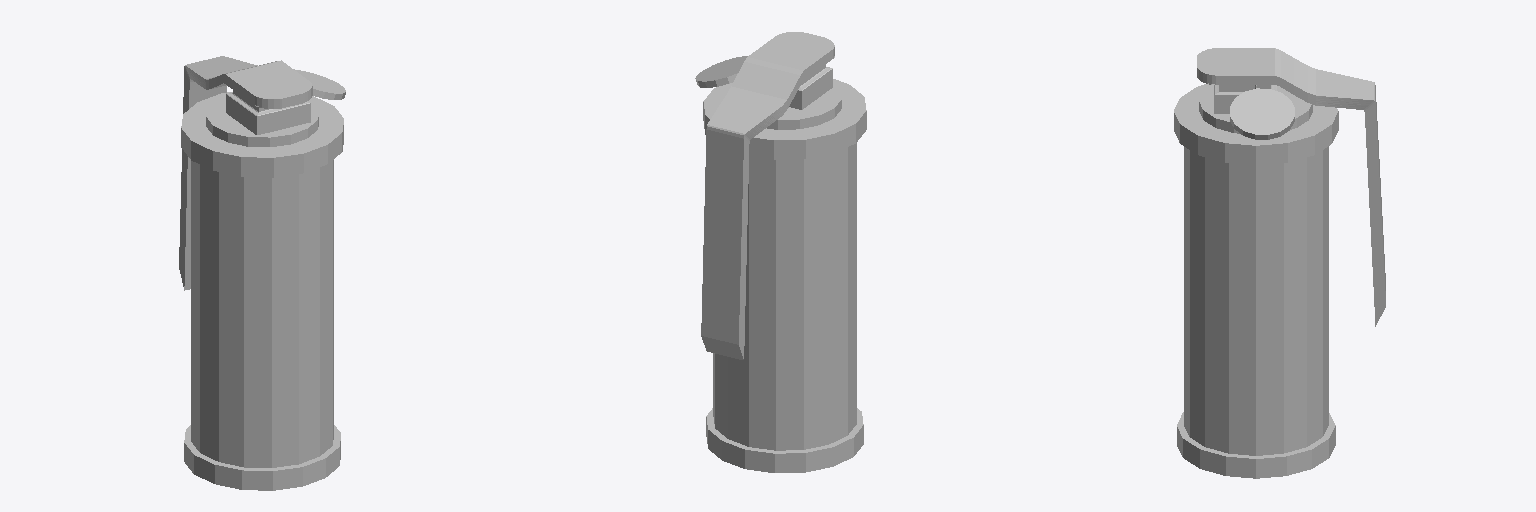
The model's file is Smoke Grenade.obj.
3 renders of one model, left to right at view 1: azimuth 30°, elevation 25°; view 2: azimuth 150°, elevation 25°; view 3: azimuth 270°, elevation 25°, orthographic.
Parts seen in each view (by area): view 1: Smoke_Grenade_Cylinder.000; view 2: Smoke_Grenade_Cylinder.000; view 3: Smoke_Grenade_Cylinder.000.
Part boxes in pixels (x1,y1,x2,y2): Smoke_Grenade_Cylinder.000: (179,56,345,490); Smoke_Grenade_Cylinder.000: (695,32,866,472); Smoke_Grenade_Cylinder.000: (1174,48,1385,478).
Bounding box in the file's own units: 1.63 × 3.9 × 1.96.